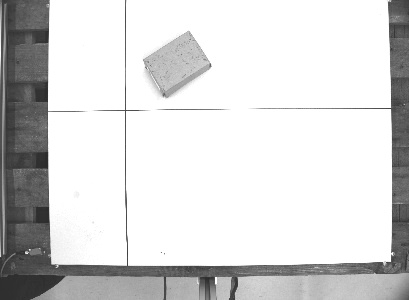b6: (140, 26, 214, 101)
